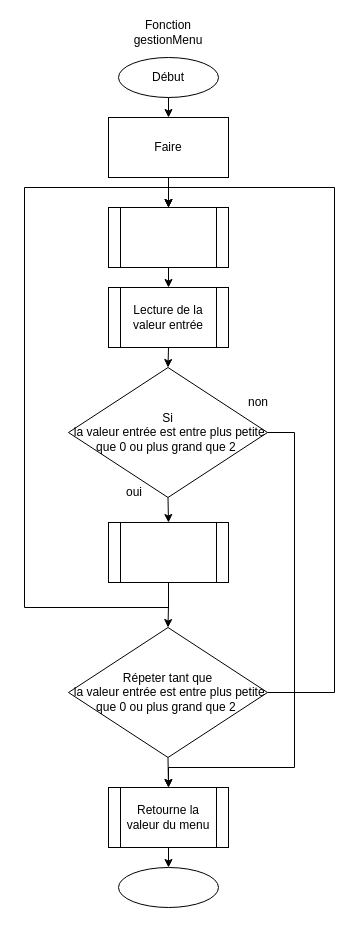
The diagram is 360 pixels wide and 925 high, and some of its shapes have lost their labels. Each missing label, with the centre of its shape:
Affiche le menu des différentes fonction: the point at 168,237
Affiche que l'entrée de l'utilisateur n'est pas correcte: the point at 168,552
Fin: the point at 168,887
